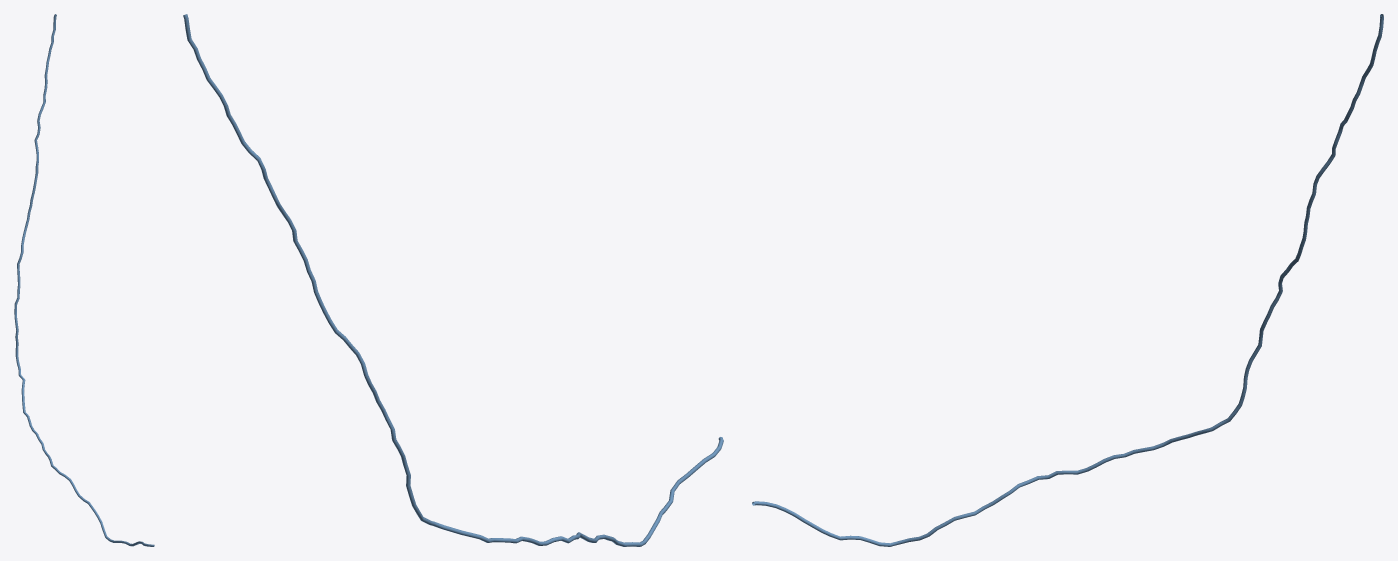
The model's file is sweep198.fbx.
3 views of the same model, side by side, from view 1: azimuth 30°, elevation 25°; view 2: azimuth 150°, elevation 25°; view 3: azimuth 270°, elevation 25° (orthographic). The views are drawn at different scales.
Visible parts, largest first — view 1: sweep198; view 2: sweep198; view 3: sweep198.
Boxes of the visible parts, x1,y1,x2,y2 form: sweep198: [14, 14, 154, 546]; sweep198: [183, 14, 723, 546]; sweep198: [752, 14, 1383, 546].
Size of the model in its own units: 0.9987 by 3.32 by 3.12.
